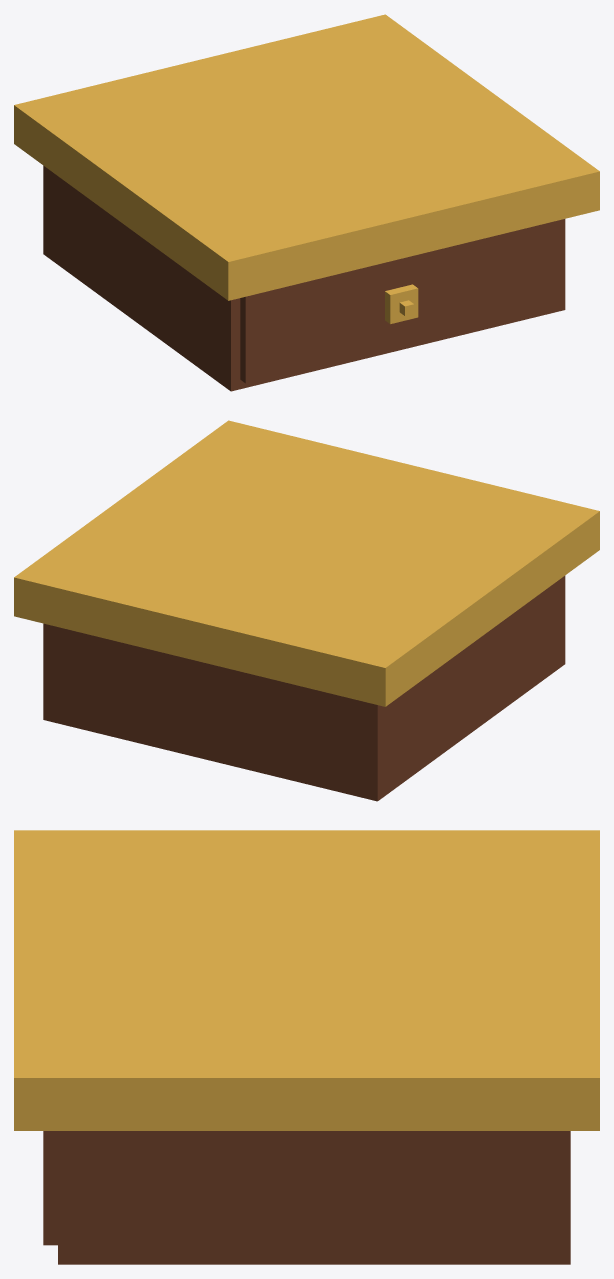
File: mesa.obj
3 renders of one model, top to bottom at view 1: azimuth 30°, elevation 25°; view 2: azimuth 150°, elevation 25°; view 3: azimuth 270°, elevation 25°, orthographic. The views are drawn at different scales.
Size of the model in its own units: 4 by 1.5 by 4.
1 material, 1 textured.
